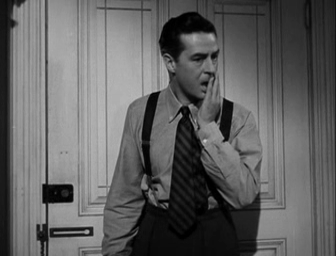face: (182, 41, 220, 100)
ms: (1, 1, 336, 256)
person: (101, 12, 263, 256)
